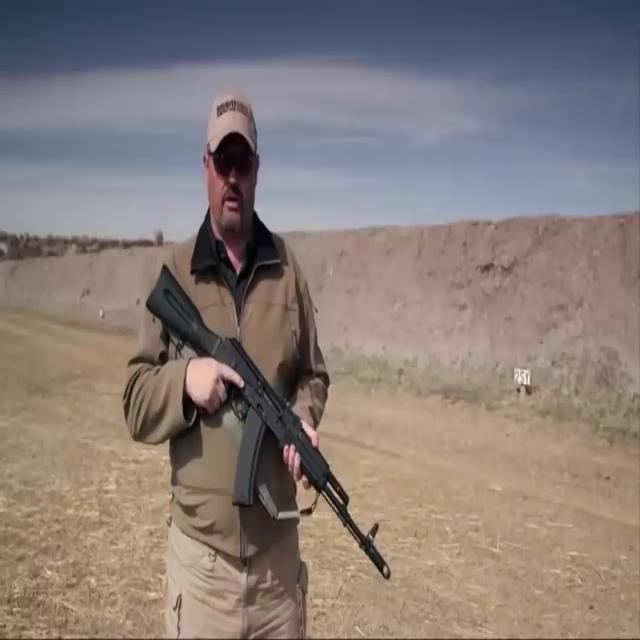Weapon: (139, 258, 397, 590)
